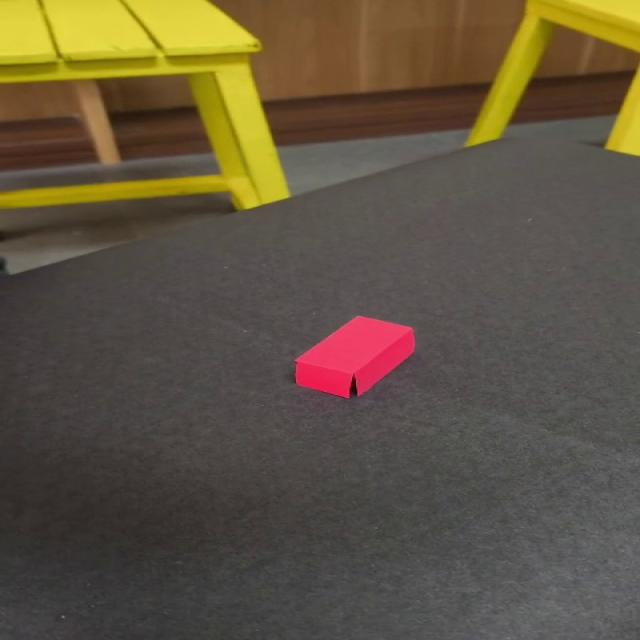red block: (292, 314, 416, 399)
